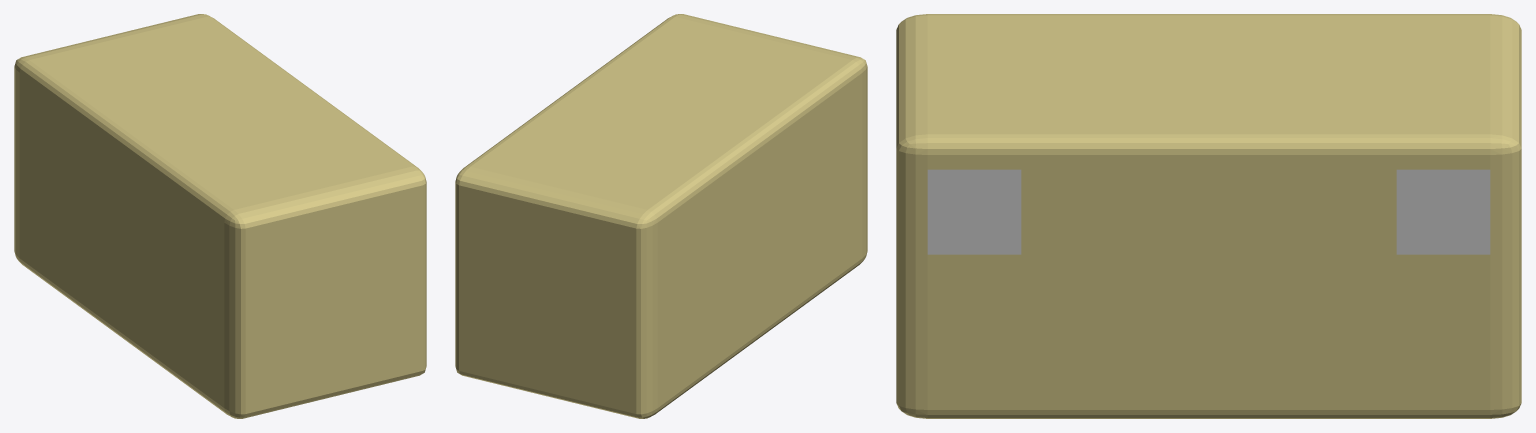
File: Message_Hashtag.dae
3 views of the same model, side by side, from view 1: azimuth 30°, elevation 25°; view 2: azimuth 150°, elevation 25°; view 3: azimuth 270°, elevation 25° (orthographic). The views are drawn at different scales.
Visible parts, largest first — view 1: Cube; view 2: Cube; view 3: Cube, Plane, Plane_001.
Part boxes in pixels (left/top/right/bottom): Cube: left=14, top=14, right=426, bottom=418; Cube: left=455, top=14, right=867, bottom=418; Cube: left=896, top=14, right=1521, bottom=418; Plane: left=927, top=169, right=1021, bottom=254; Plane_001: left=1396, top=169, right=1490, bottom=254.
Size of the model in its own units: 1 by 2 by 1.
